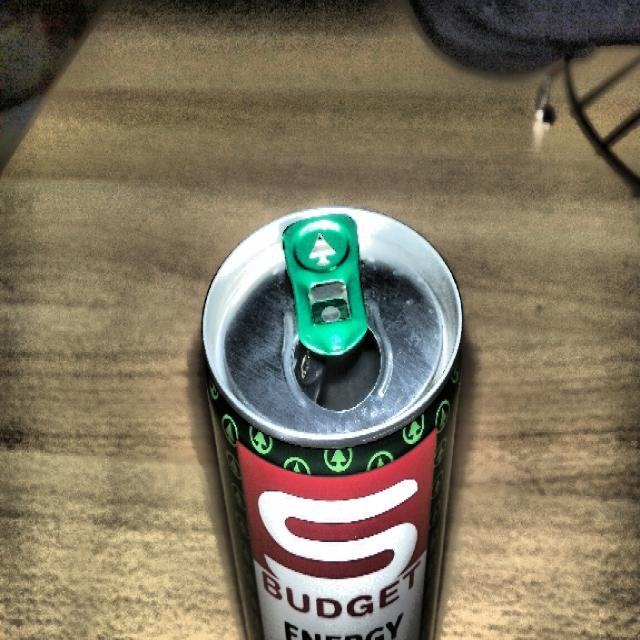Cans: (202, 196, 463, 640)
